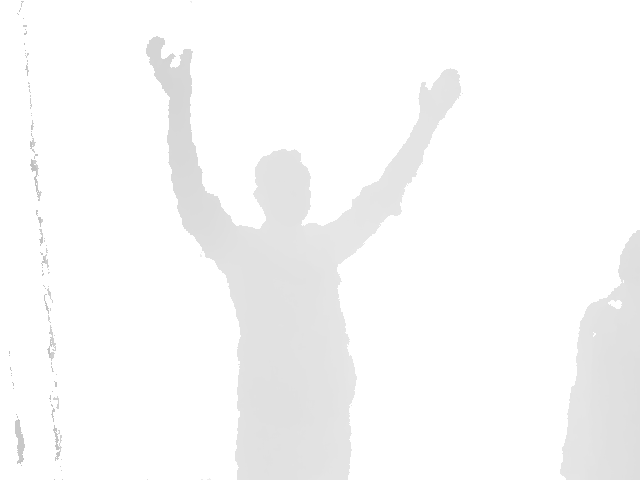hand: (145, 35, 194, 100), (418, 68, 462, 121)
head: (252, 148, 312, 224), (617, 227, 640, 284)
person: (145, 35, 462, 479), (558, 227, 640, 480)
